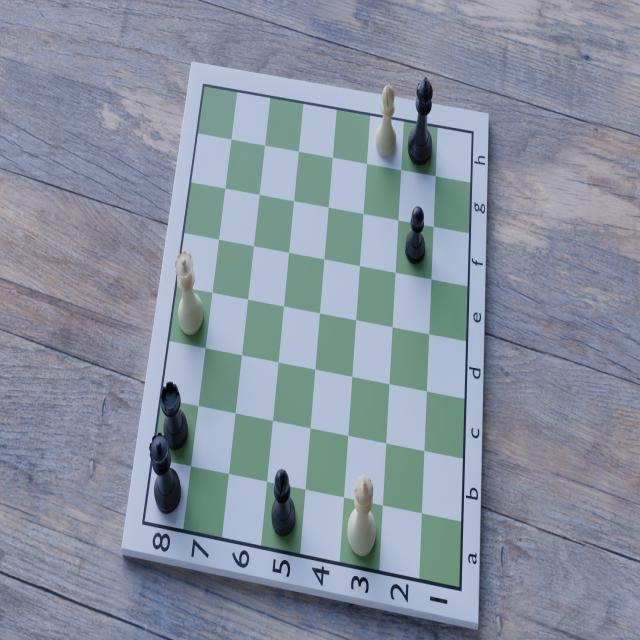black-bishop: (268, 465, 297, 541)
black-king: (406, 75, 434, 167)
black-pawn: (404, 203, 427, 268)
black-queen: (149, 431, 183, 516)
black-rook: (158, 380, 189, 452)
white-bishop: (373, 82, 398, 160)
white-king: (346, 472, 378, 560)
white-queen: (173, 250, 207, 342)
